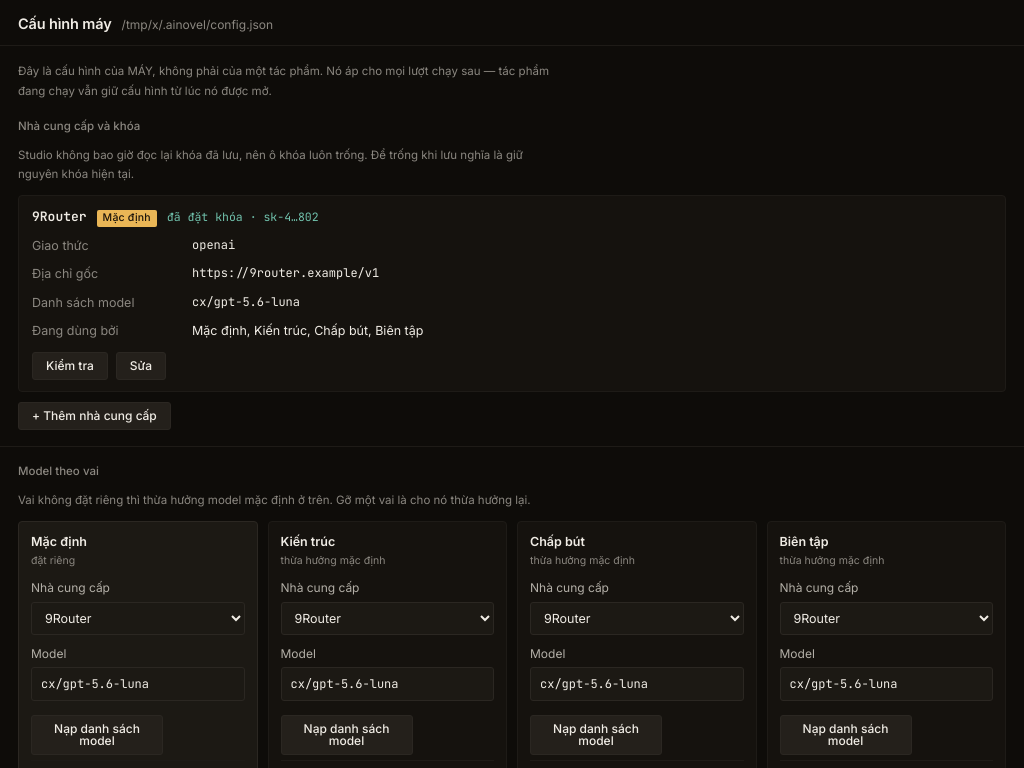
cửa sổ khớp thì không có cảnh báo lệch
Expected: the list item with class "nccMuc" is shown, [18,195,1006,392]
Click the button "Kiểm tra" at (70, 366), box [32,352,108,380]
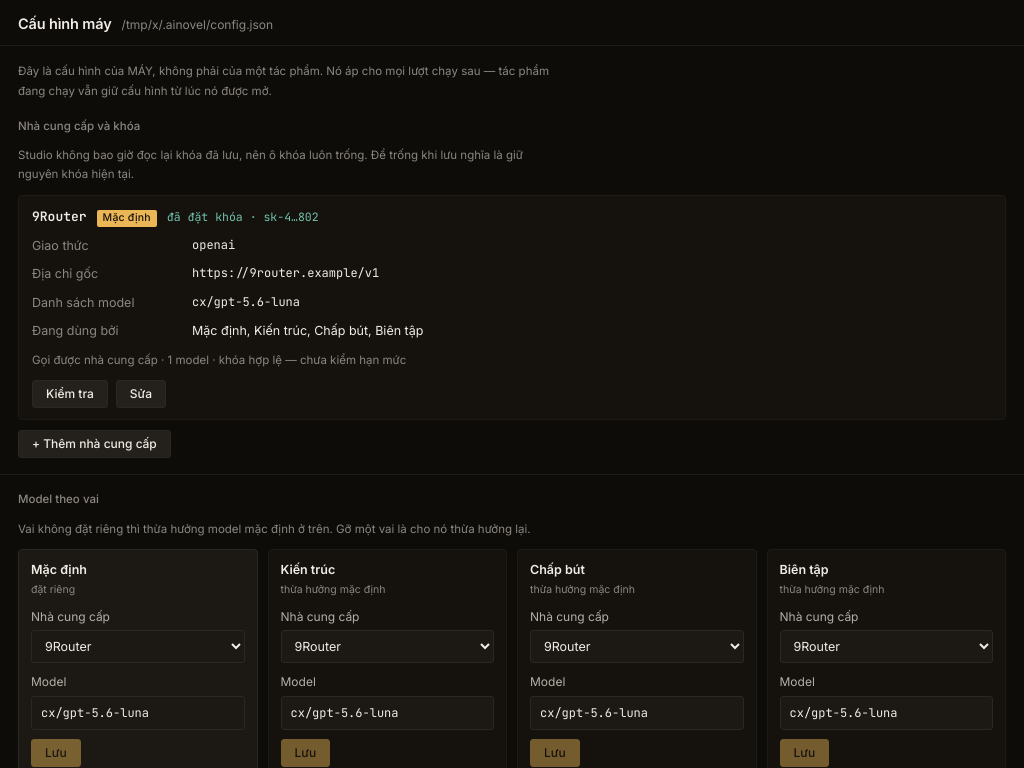
Now the text "Gọi được nhà cung cấp · 1 model" is shown, box [32,353,406,367]
